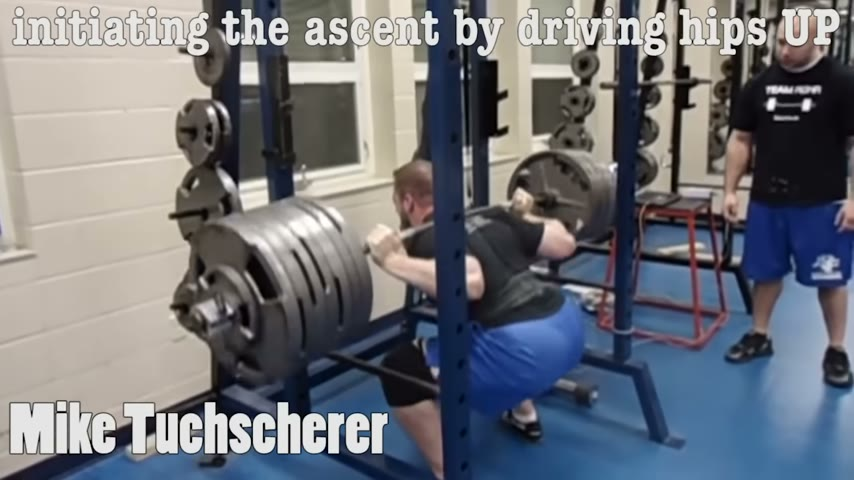barbell_plate_side: (156, 162, 265, 377)
